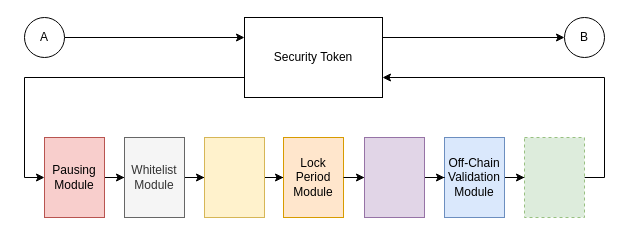
Image size: 630x235. Some labels were removed from this diagram. The shapes that lost their labels are listed below. From the top down, each one's box as (x1, y1, x2, y2) in pixels, then its label:
(204, 136, 264, 218): Spending Limits Module
(364, 136, 424, 218): Vesting Module
(524, 136, 584, 218): NEW Module
